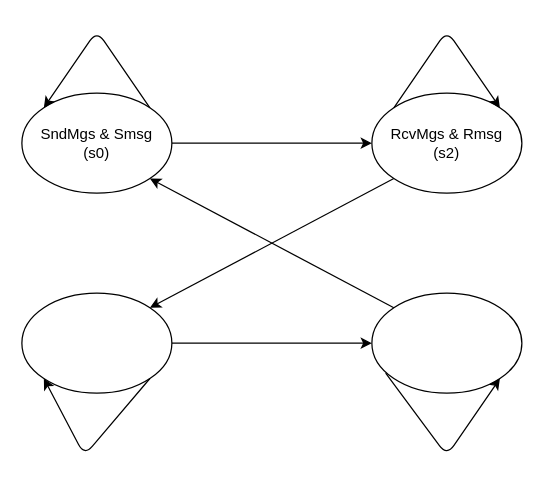
The diagram is 544 pixels wide and 488 high, and some of its shapes have lost their labels. The shapes that lost their labels are listed below. From the top down, each one's centre as x and y in pixels, then its label:
point 96,342: SndMgs & ~Smsg (s1)
point 446,342: RcvMgs & ~Rmsg (s3)
